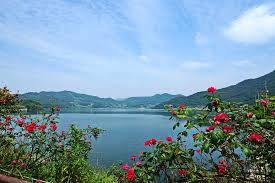flower: (128, 109, 265, 182), (8, 108, 85, 183)
mountain: (17, 90, 275, 111)
sky: (4, 1, 261, 85)
